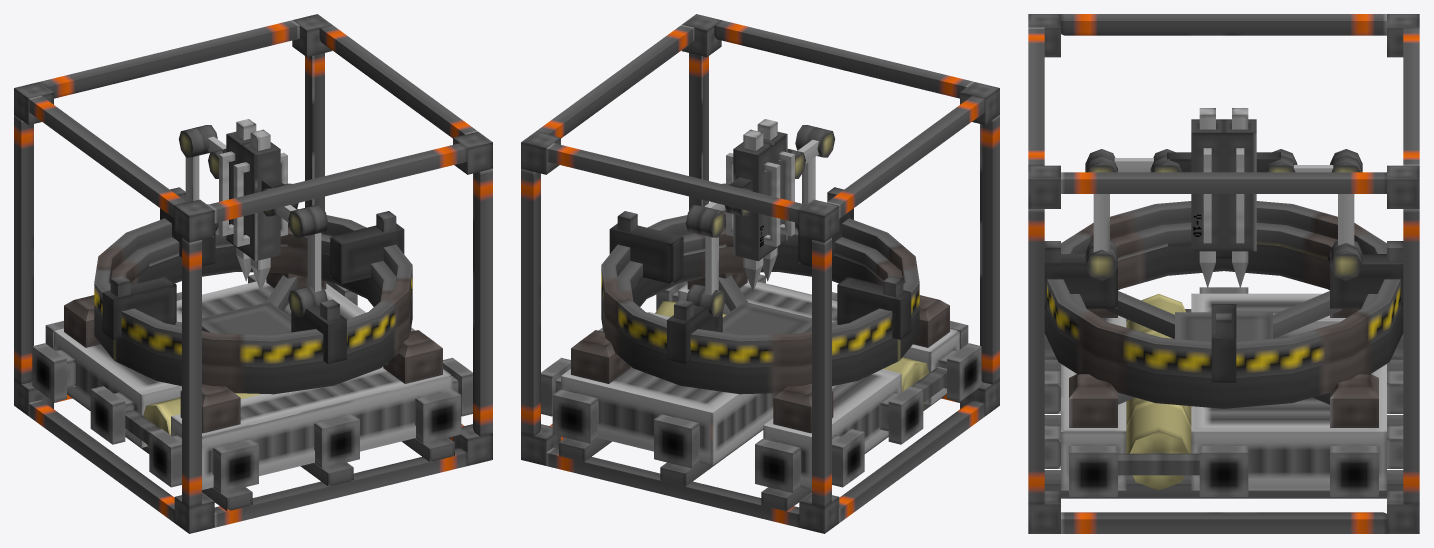
File: assembly_machine.obj
3 views of the same model, side by side, from view 1: azimuth 30°, elevation 25°; view 2: azimuth 150°, elevation 25°; view 3: azimuth 270°, elevation 25° (orthographic). The views are drawn at different scales.
Visible parts, largest first — view 1: Base, Frame, Ring, Ring2, Head1, Head2, ArmLower1, ArmLower2, ArmUpper1, Spike1, Spike2; view 2: Base, Frame, Ring, Ring2, Head2, ArmLower2, Head1, ArmUpper1, ArmLower1, Spike2, Spike1, ArmUpper2; view 3: Base, Frame, Ring, Head1, Head2, ArmLower1, Ring2, ArmLower2, ArmUpper2, ArmUpper1, Spike1, Spike2.
Part boxes in pixels (x1=…): Base: x1=14, y1=245, x2=492, y2=533; Frame: x1=14, y1=14, x2=492, y2=507; Ring: x1=94, y1=187, x2=412, y2=367; Ring2: x1=102, y1=211, x2=404, y2=339; Head1: x1=233, y1=142, x2=298, y2=261; Head2: x1=208, y1=131, x2=250, y2=250; ArmLower1: x1=304, y1=205, x2=328, y2=305; ArmLower2: x1=179, y1=128, x2=205, y2=202; ArmUpper1: x1=261, y1=187, x2=315, y2=237; Spike1: x1=250, y1=129, x2=270, y2=292; Spike2: x1=236, y1=119, x2=256, y2=281; Base: x1=521, y1=245, x2=999, y2=533; Frame: x1=521, y1=14, x2=999, y2=507; Ring: x1=601, y1=187, x2=919, y2=367; Ring2: x1=609, y1=211, x2=911, y2=339; Head2: x1=726, y1=142, x2=780, y2=261; ArmLower2: x1=698, y1=208, x2=725, y2=316; Head1: x1=763, y1=131, x2=794, y2=250; ArmUpper1: x1=787, y1=128, x2=834, y2=178; ArmLower1: x1=795, y1=125, x2=818, y2=230; Spike2: x1=743, y1=129, x2=763, y2=292; Spike1: x1=757, y1=119, x2=777, y2=281; ArmUpper2: x1=685, y1=183, x2=734, y2=234; Base: x1=1028, y1=244, x2=1419, y2=533; Frame: x1=1028, y1=14, x2=1419, y2=504; Ring: x1=1044, y1=201, x2=1403, y2=378; Head1: x1=1150, y1=119, x2=1223, y2=251; Head2: x1=1224, y1=119, x2=1297, y2=251; ArmLower1: x1=1085, y1=156, x2=1117, y2=280; Ring2: x1=1211, y1=251, x2=1236, y2=382; ArmLower2: x1=1330, y1=149, x2=1362, y2=258; ArmUpper2: x1=1266, y1=156, x2=1362, y2=172; ArmUpper1: x1=1085, y1=149, x2=1175, y2=172; Spike1: x1=1199, y1=108, x2=1215, y2=287; Spike2: x1=1232, y1=108, x2=1248, y2=287.
Bounding box in the file's own units: 3 × 3 × 3.
